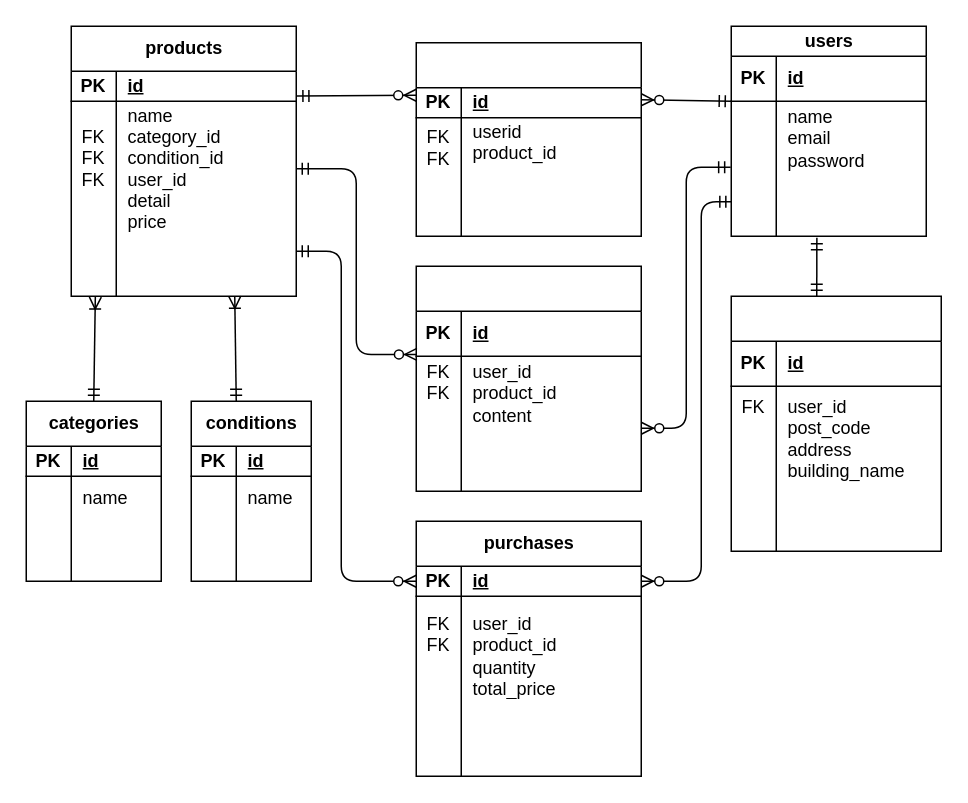
Some shapes in this 968 by 803 pixel diagram are drawn without their labels. The shapes that lost their labels are listed below. From the top down, each one's box as (x1, y1, x2, y2) in pixels, then its label:
(415, 41, 641, 236): favorites
(415, 265, 641, 491): comments
(730, 295, 941, 551): profiles
